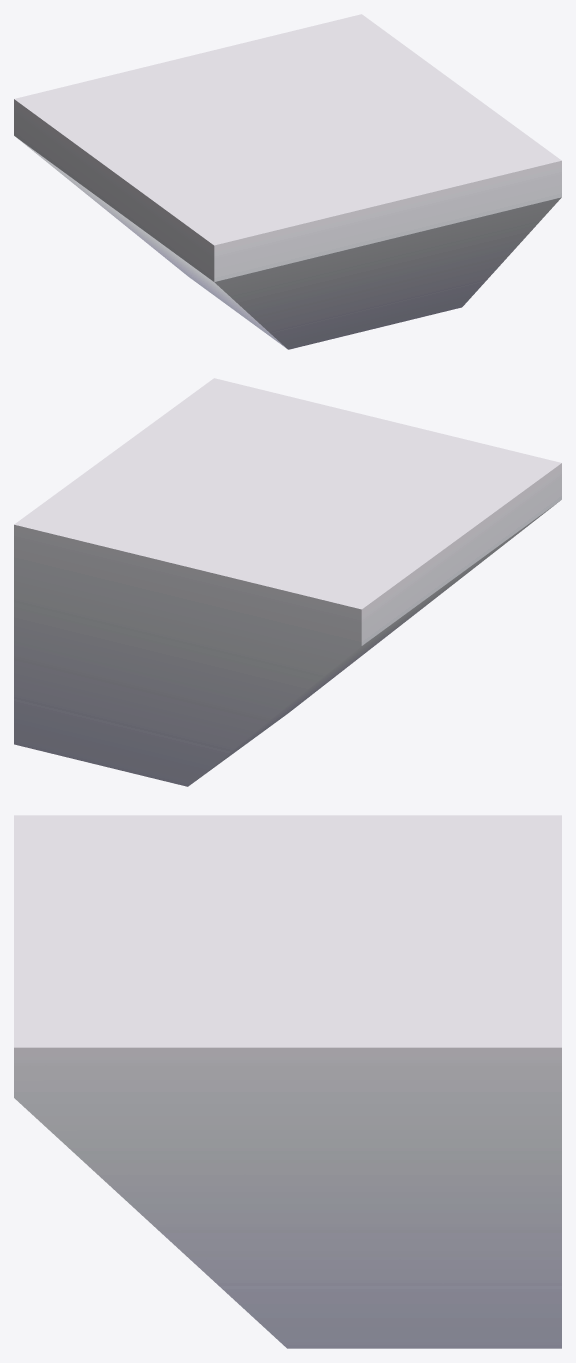
File: none-lq-brick-slope-corner-outside-inverted-2x2.glb
3 views of the same model, one above another, from view 1: azimuth 30°, elevation 25°; view 2: azimuth 150°, elevation 25°; view 3: azimuth 270°, elevation 25° (orthographic). The views are drawn at different scales.
Visible parts, largest first — view 1: none-lq-brick-slope-corner-outside-inverted-2x2; view 2: none-lq-brick-slope-corner-outside-inverted-2x2; view 3: none-lq-brick-slope-corner-outside-inverted-2x2.
Boxes of the visible parts, left/top/right/bottom form: none-lq-brick-slope-corner-outside-inverted-2x2: left=14, top=14, right=561, bottom=349; none-lq-brick-slope-corner-outside-inverted-2x2: left=14, top=378, right=561, bottom=786; none-lq-brick-slope-corner-outside-inverted-2x2: left=14, top=815, right=561, bottom=1348.
Size of the model in its own units: 0.159 by 0.096 by 0.1585.
1 material, 1 textured.
